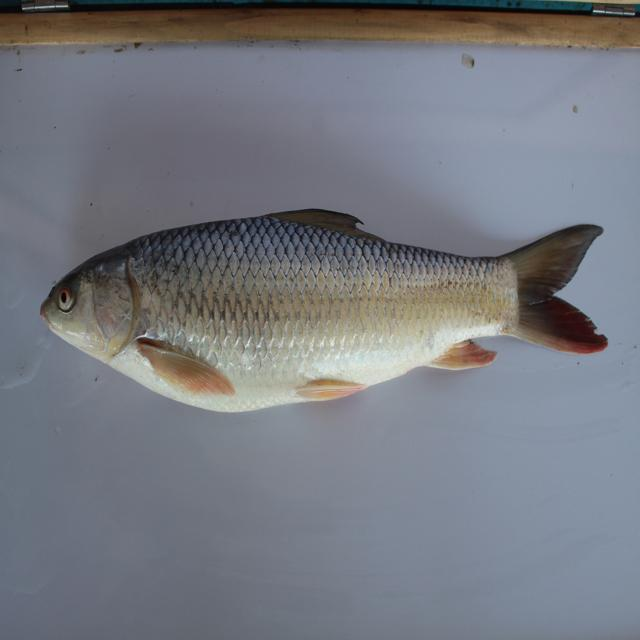Mori: (35, 182, 612, 439)
